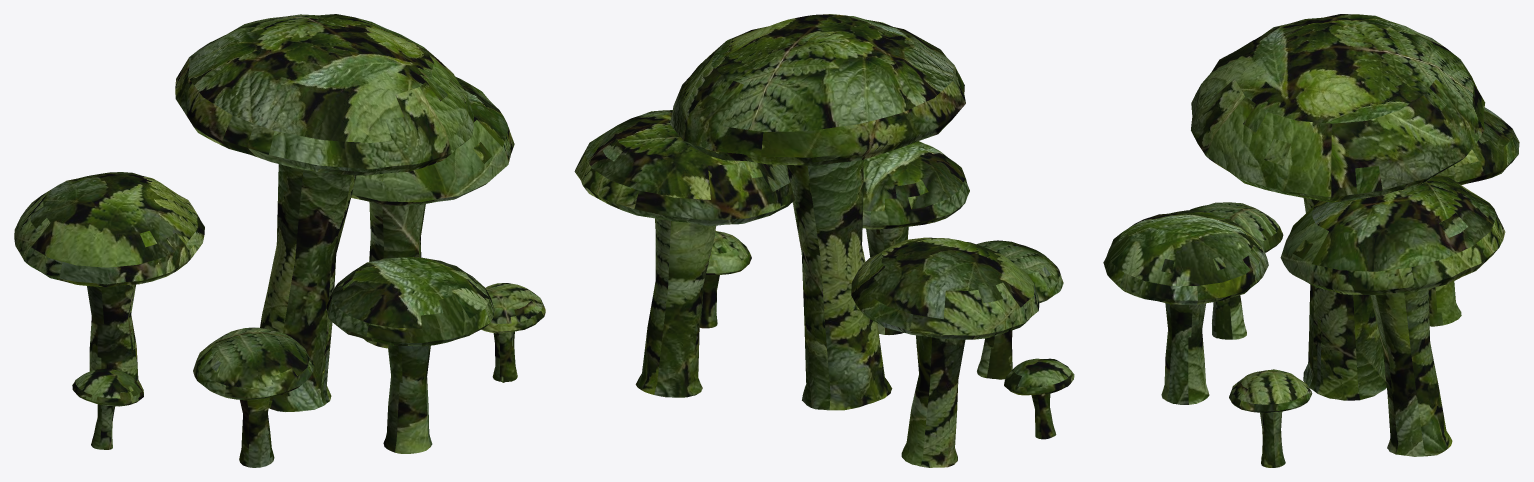
File: mushroom-cluster-v01.glb
The picture shows the model from 3 angles, left to right: view 1: azimuth 30°, elevation 25°; view 2: azimuth 150°, elevation 25°; view 3: azimuth 270°, elevation 25°; orthographic projection.
Parts seen in each view (by area): view 1: mushroom-cluster; view 2: mushroom-cluster; view 3: mushroom-cluster.
Boxes of the visible parts, <box> form: mushroom-cluster: <box>14,14,545,467</box>; mushroom-cluster: <box>574,14,1074,467</box>; mushroom-cluster: <box>1103,14,1519,467</box>.
Bounding box in the file's own units: 1.77 × 1.35 × 1.42.
1 material, 1 textured.
